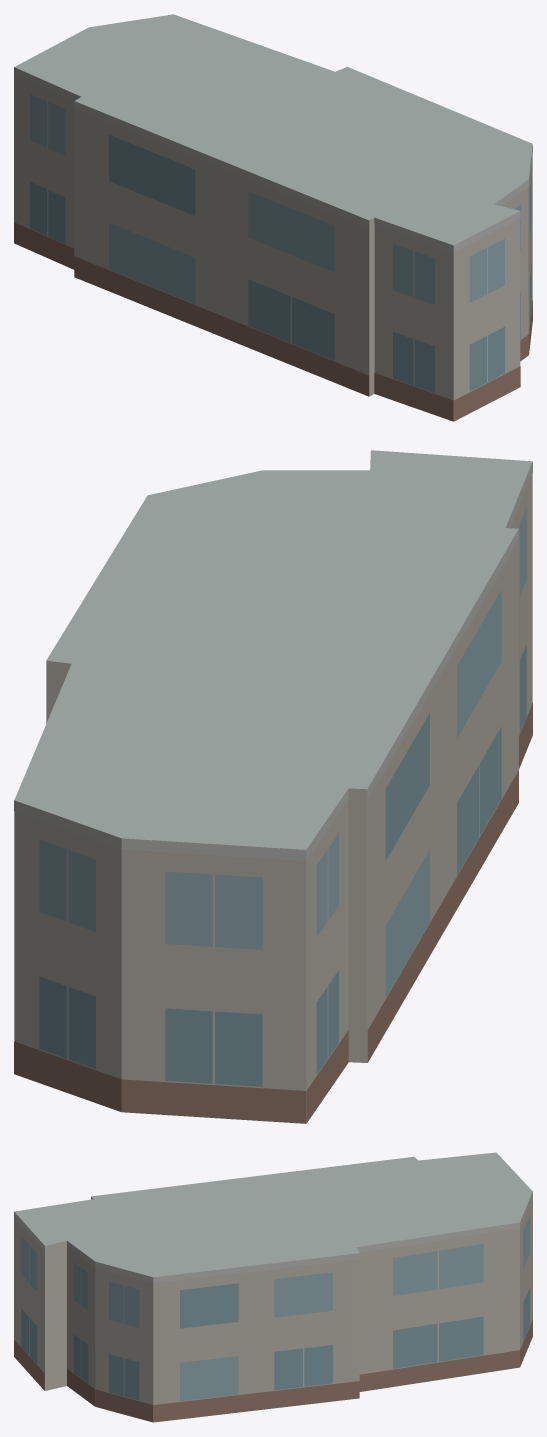
The model's file is survey-upis-32599065.glb.
3 renders of one model, top to bottom at view 1: azimuth 30°, elevation 25°; view 2: azimuth 150°, elevation 25°; view 3: azimuth 270°, elevation 25°, orthographic. The views are drawn at different scales.
Parts seen in each view (by area): view 1: survey-upis-32599065.tmp; view 2: survey-upis-32599065.tmp; view 3: survey-upis-32599065.tmp.
Boxes of the visible parts, bbox=[...] form: survey-upis-32599065.tmp: bbox=[14, 14, 532, 421]; survey-upis-32599065.tmp: bbox=[14, 450, 532, 1123]; survey-upis-32599065.tmp: bbox=[14, 1152, 532, 1422].
Size of the model in its own units: 11.26 by 6.1 by 19.76.
